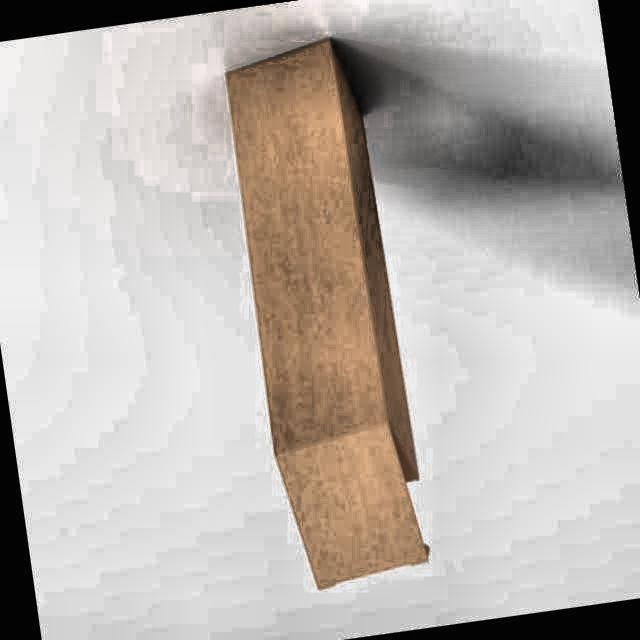cardboard: (224, 39, 431, 593)
